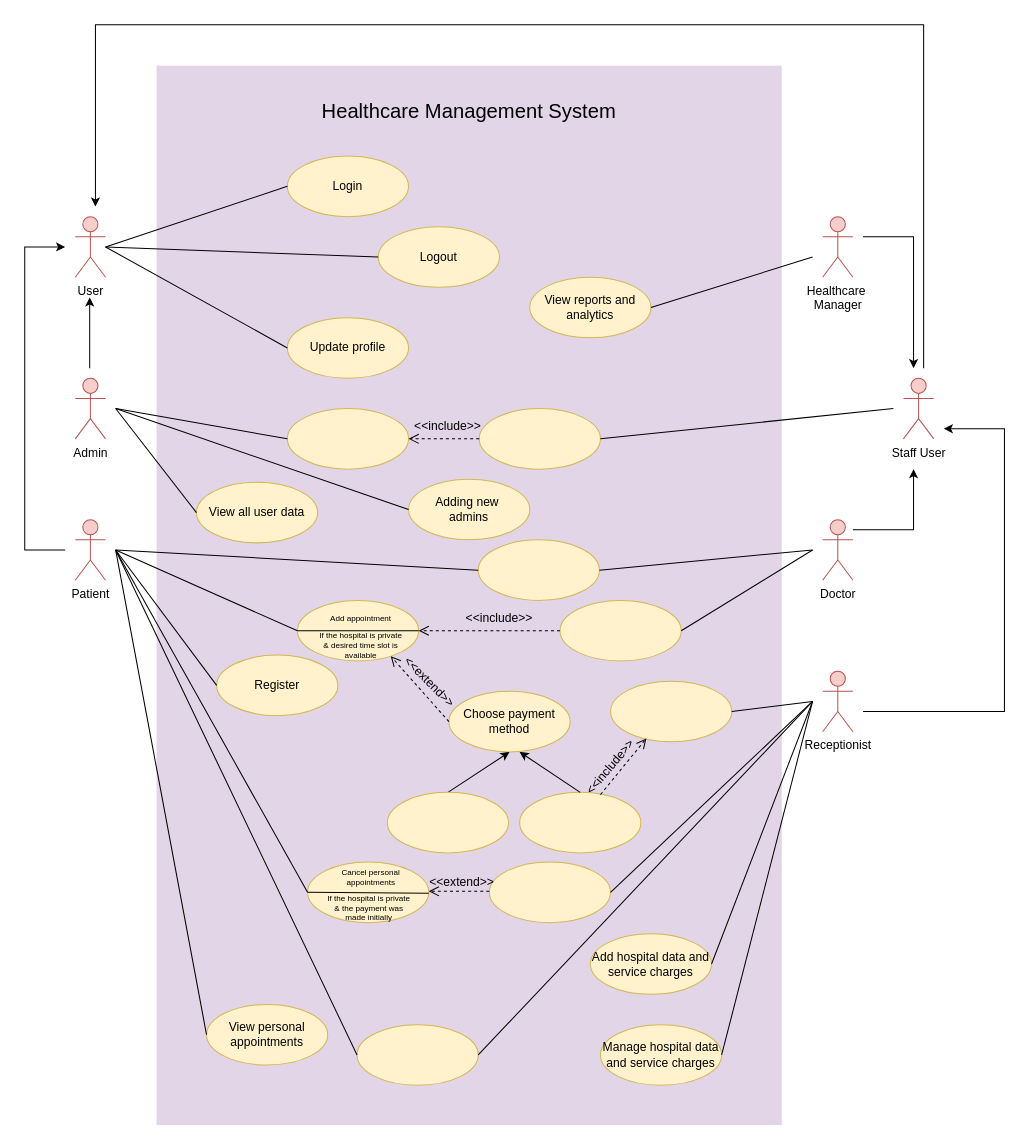
The diagram is 1030 pixels wide and 1143 high, and some of its shapes have lost their labels. The centre of each missing label's shape, as x and y in pixels:
"Add prescription" belongs at pixel 620 630.
"Manage cash payment" belongs at pixel 671 711.
"Pay in cash" belongs at pixel 580 822.
"Pay via payment gateway" belongs at pixel 447 822.
"Process refund" belongs at pixel 549 892.
"Request for register" belongs at pixel 539 438.
"Resolve request" belongs at pixel 347 438.
"View appointments" belongs at pixel 417 1054.
"View personal medical history" belongs at pixel 538 569.
